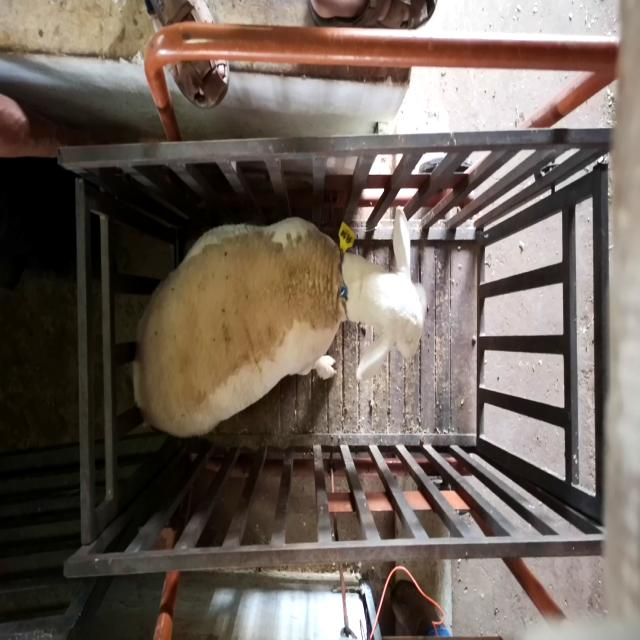sheep: (133, 205, 428, 438)
